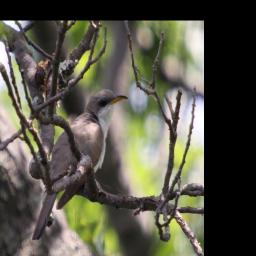Cuckoo: (32, 85, 130, 246)
